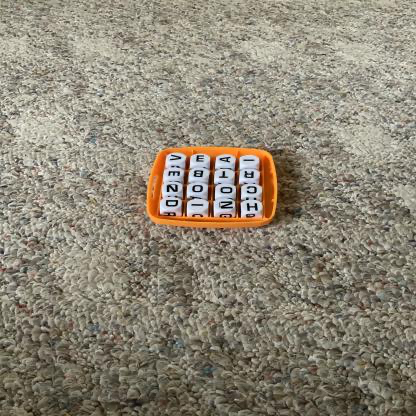a: (218, 156, 236, 166)
b: (191, 169, 211, 180)
c: (243, 185, 263, 197)
d: (161, 198, 182, 212)
e: (166, 168, 185, 180), (191, 155, 210, 165)
h: (243, 201, 263, 214)
i: (189, 200, 209, 213), (241, 156, 260, 167)
n: (215, 200, 237, 213), (164, 183, 184, 195)
o: (216, 185, 237, 197), (189, 183, 209, 195)
r: (241, 170, 261, 181)
t: (216, 170, 236, 181)
v: (168, 154, 186, 164)
